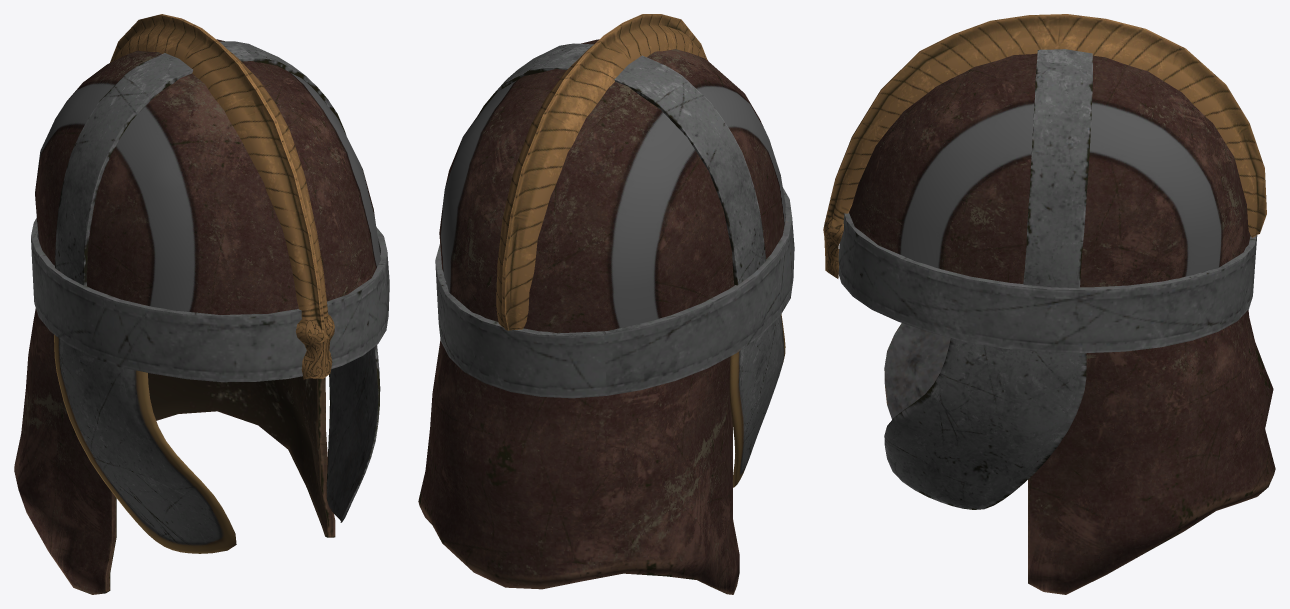
File: cts_rohan_helmet4c.fbx
The picture shows the model from 3 angles, left to right: view 1: azimuth 30°, elevation 25°; view 2: azimuth 150°, elevation 25°; view 3: azimuth 270°, elevation 25°; orthographic projection.
Visible parts, largest first — view 1: cts_rohan_helmet4c; view 2: cts_rohan_helmet4c; view 3: cts_rohan_helmet4c.
Part boxes in pixels (x1=…): cts_rohan_helmet4c: x1=14, y1=14, x2=389, y2=594; cts_rohan_helmet4c: x1=418, y1=14, x2=794, y2=594; cts_rohan_helmet4c: x1=823, y1=14, x2=1275, y2=594.
Size of the model in its own units: 0.1901 by 0.2608 by 0.3305.
Materials: 1 (1 with a texture image).
